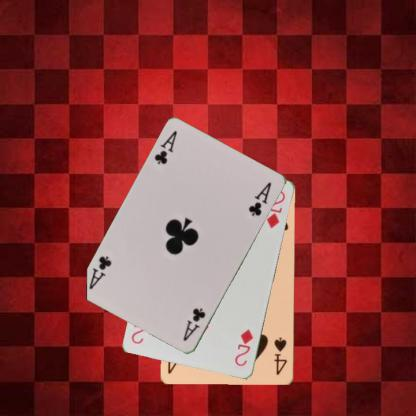2d: (232, 326, 255, 368)
4s: (272, 335, 288, 377)
Ac: (180, 306, 207, 343), (152, 128, 178, 166)
